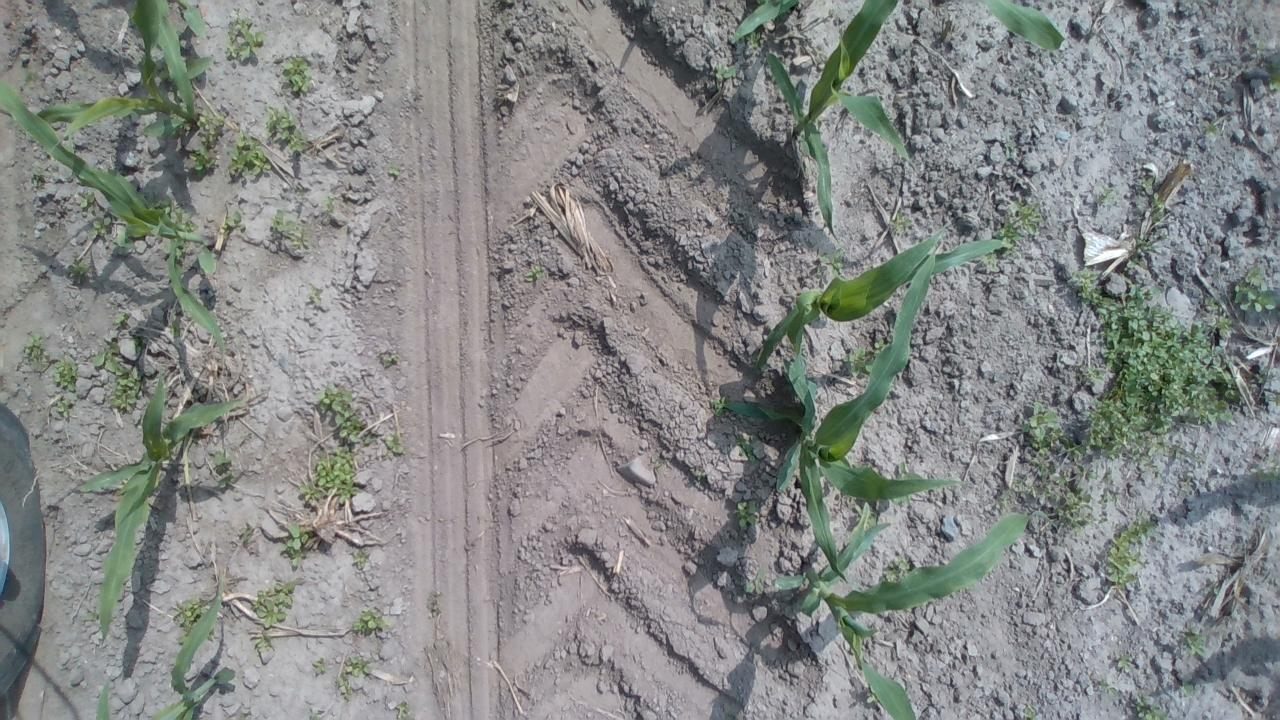Maize: (739, 242, 970, 584), (0, 78, 224, 357), (773, 498, 1030, 720), (80, 372, 251, 644), (753, 224, 1013, 372), (768, 0, 916, 243), (91, 583, 237, 720), (32, 56, 216, 154), (732, 0, 1067, 50), (131, 0, 210, 116)
Weeds: (1088, 279, 1235, 462), (1106, 508, 1156, 588), (299, 444, 361, 503), (1041, 472, 1095, 535), (315, 383, 363, 442), (994, 200, 1042, 253), (144, 192, 198, 233), (1021, 400, 1062, 454), (264, 105, 310, 152), (227, 130, 272, 177), (252, 582, 296, 628), (1236, 266, 1278, 311), (108, 364, 143, 412), (172, 598, 208, 644), (226, 16, 264, 59), (280, 524, 310, 566), (280, 56, 312, 92), (195, 106, 225, 144), (1072, 265, 1100, 305), (1134, 693, 1171, 720), (52, 354, 78, 392), (352, 609, 391, 634), (842, 346, 874, 376), (23, 331, 50, 365), (92, 341, 120, 373), (1250, 456, 1280, 484), (150, 58, 174, 92), (190, 145, 216, 176), (1183, 624, 1206, 658), (731, 432, 757, 462), (713, 61, 737, 90), (818, 248, 844, 274), (884, 556, 910, 582), (736, 500, 760, 528), (1062, 437, 1090, 460), (742, 568, 766, 594), (270, 208, 296, 232), (853, 502, 877, 527), (1078, 363, 1104, 386), (66, 259, 90, 283), (286, 226, 310, 250), (1014, 478, 1040, 500), (163, 237, 190, 258), (344, 656, 372, 676), (887, 212, 912, 234), (1030, 458, 1056, 477), (168, 112, 190, 134), (1150, 193, 1166, 223), (76, 192, 98, 212), (898, 462, 922, 480), (709, 395, 729, 416), (222, 212, 245, 230), (89, 216, 111, 234), (1076, 462, 1098, 480), (1267, 62, 1280, 92), (307, 282, 323, 306), (394, 701, 414, 720), (1096, 185, 1116, 204), (1254, 366, 1275, 384), (998, 488, 1014, 510), (337, 677, 352, 700), (217, 470, 235, 489), (1098, 680, 1118, 697), (56, 398, 72, 419), (1134, 233, 1152, 251), (254, 635, 273, 652), (744, 28, 761, 47), (864, 684, 880, 704), (1097, 490, 1118, 505), (386, 437, 404, 454), (1114, 652, 1132, 669), (1144, 461, 1161, 478), (982, 252, 998, 270), (213, 450, 231, 466), (30, 168, 44, 188), (352, 551, 368, 567), (1204, 121, 1219, 138), (890, 493, 910, 505), (1100, 468, 1114, 485), (382, 355, 400, 368), (312, 659, 327, 674), (873, 338, 889, 352), (23, 67, 37, 83), (525, 266, 541, 280), (322, 196, 335, 213), (1180, 681, 1194, 696), (1255, 40, 1268, 55), (1004, 139, 1014, 158), (170, 321, 181, 338), (1023, 706, 1036, 720), (240, 528, 252, 542), (388, 164, 402, 176), (1124, 256, 1139, 267), (431, 603, 442, 617), (1140, 178, 1154, 188), (132, 338, 142, 352), (114, 313, 128, 323), (652, 457, 663, 468), (85, 612, 100, 620), (296, 185, 304, 199), (697, 471, 708, 481), (1182, 476, 1192, 486), (1274, 394, 1280, 408), (365, 434, 374, 443), (756, 0, 772, 4), (309, 714, 318, 720), (238, 716, 246, 720)
